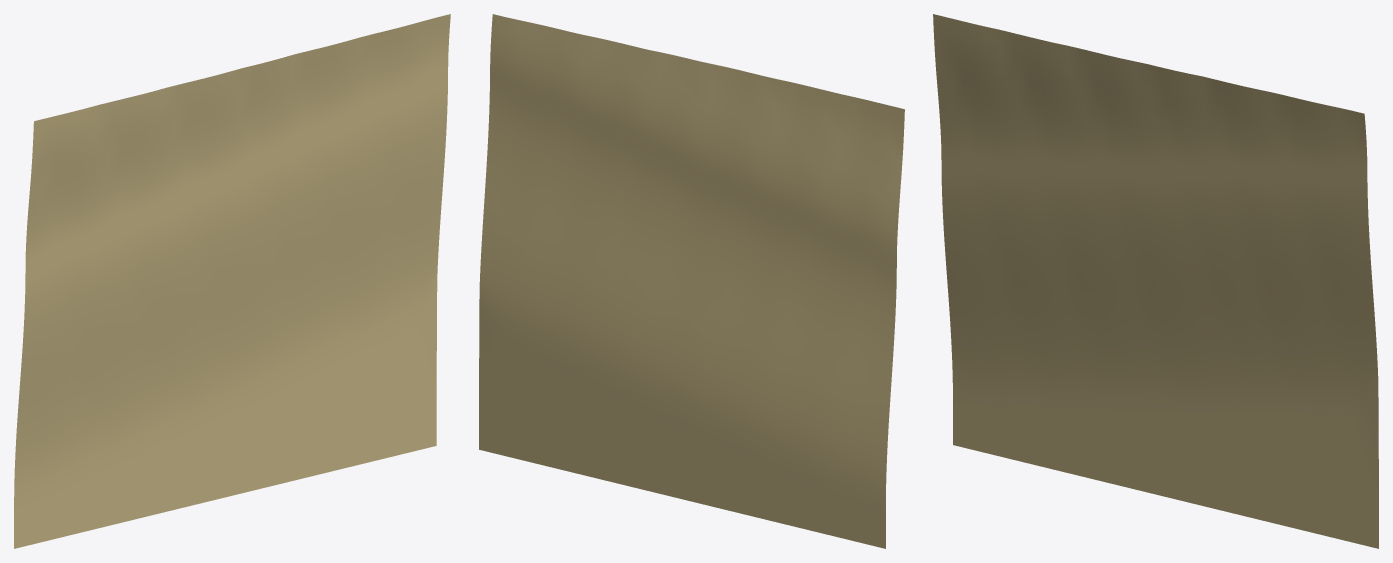
File: island_terrain_16_03.obj
The picture shows the model from 3 angles, left to right: view 1: azimuth 30°, elevation 25°; view 2: azimuth 150°, elevation 25°; view 3: azimuth 330°, elevation 25°; orthographic projection. The views are drawn at different scales.
Visible parts, largest first — view 1: island_terrain_16_03; view 2: island_terrain_16_03; view 3: island_terrain_16_03.
Part boxes in pixels (x1,y1,x2,y2): island_terrain_16_03: (14, 14, 450, 548); island_terrain_16_03: (479, 14, 904, 548); island_terrain_16_03: (933, 14, 1378, 548).
Bounding box in the file's own units: 256 × 256 × 20.8.
